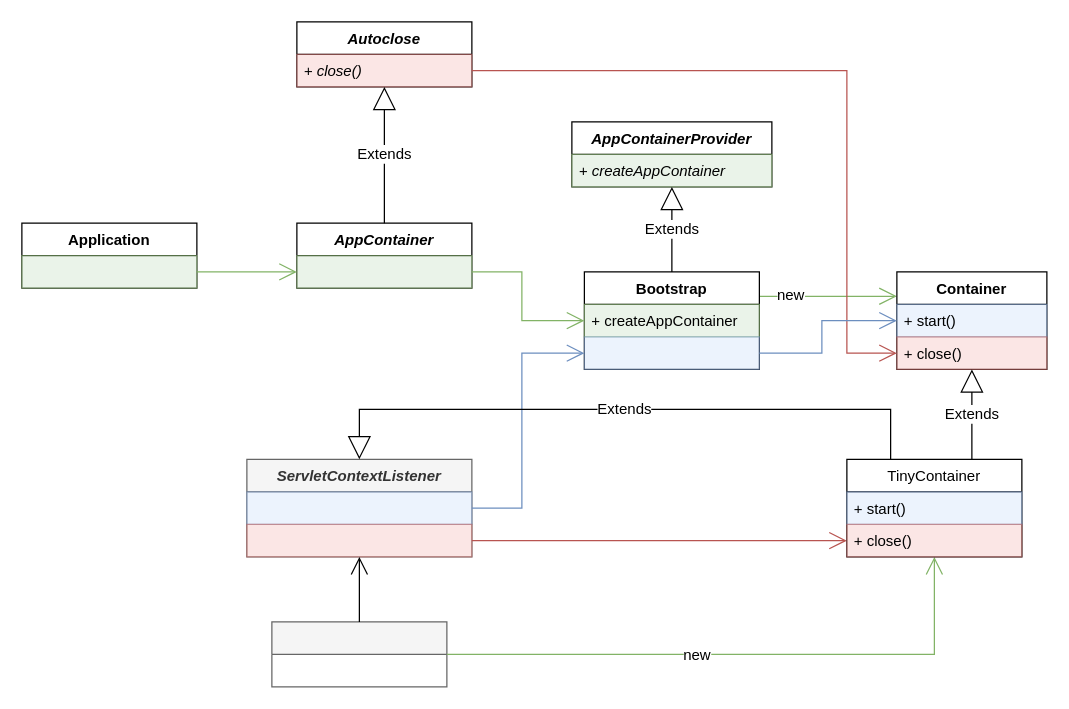
Some shapes in this 1069 by 709 pixel diagram are drawn without their labels. Here are the shapes that lost their labels. From the top down, the centre of each, then its label:
point (109, 271): + main()
point (384, 271): + create()
point (671, 352): + startContainer
point (359, 507): + contextInitialized()
point (359, 540): + contextDestroyed()
point (359, 654): ServletContainer
